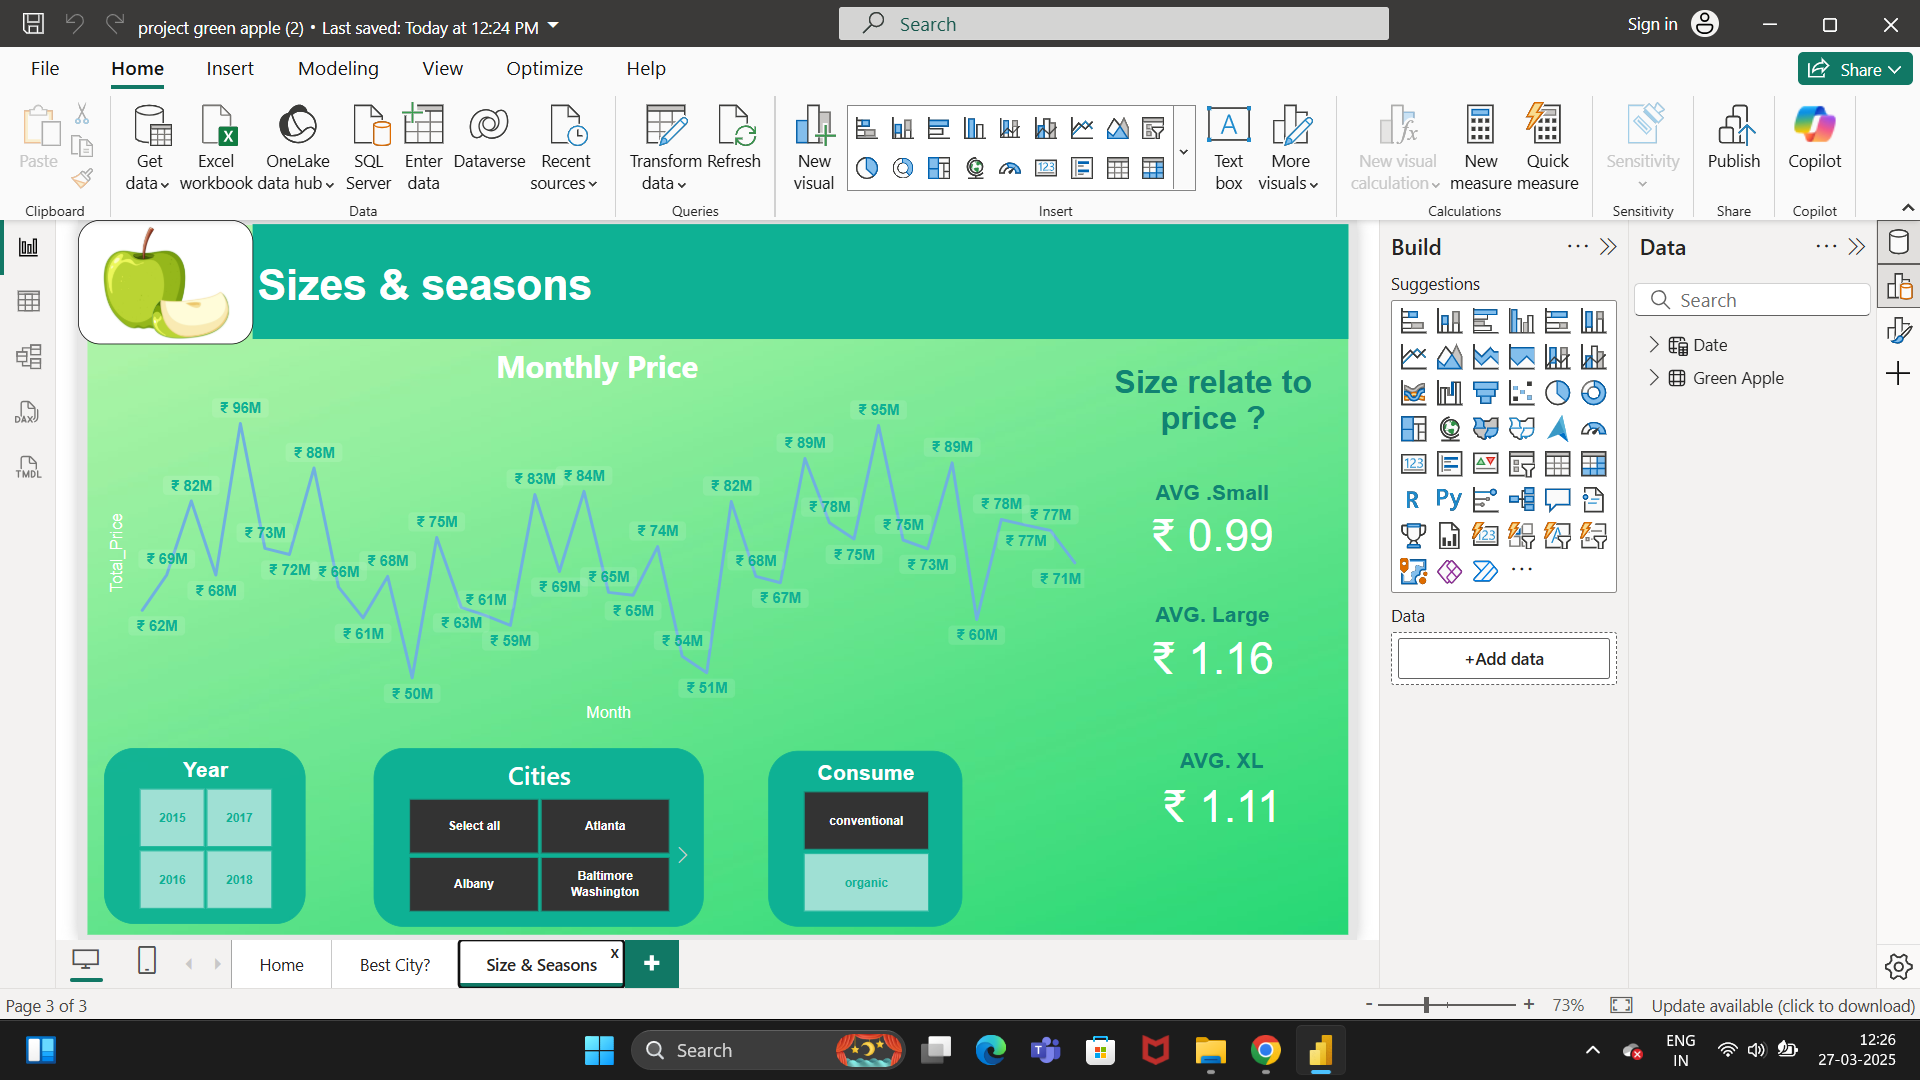

This screenshot's page, from the dashboard's own definition file:
{"tool":"powerbi","page":{"name":"Size & Seasons","canvas":[1280,720],"ordinal":2},"visuals":[{"type":"image","box":[0,0,1280,720],"z":0},{"type":"textbox","box":[175.3,4.7,1095.8,115.3],"z":1000},{"type":"card","title":"AVG .Small","fields":{"Values":["avocado.avg_price_small"]},"box":[1048.6,260,172.9,81.4],"z":2000},{"type":"slicer","title":"Consume","fields":{"Values":["avocado.type"]},"box":[690,531.4,194.3,175.7],"z":3000},{"type":"slicer","title":" Year","fields":{"Values":["Date.Calendar.Year"]},"box":[25.7,528.6,201.4,175.7],"z":4000},{"type":"card","title":"AVG. Large","fields":{"Values":["avocado.avg_price_large"]},"box":[1037.1,382.9,195.7,82.9],"z":5000},{"type":"card","title":"AVG. XL","fields":{"Values":["avocado.avg_price_xl"]},"box":[1066,528.3,156.6,88.7],"z":6000},{"type":"slicer","title":"Cities ","fields":{"Values":["avocado.Cities"]},"box":[295.7,528.6,330,178.6],"z":7000},{"type":"lineChart","title":" Monthly Price","fields":{"Category":["Date.Calendar.Year","Date.Calendar.Month"],"Y":["Green Apple.Total_Price"]},"box":[25.7,125.7,985.7,381.4],"z":8000},{"type":"textbox","box":[1024.3,138.6,221.4,94.3],"z":9000},{"type":"image","box":[0,0,175.5,124.5],"z":10000}]}

Visuals, with their boxes on the page's 1280x720 design canvas (x1, y1, x2, y2). These are canvas units, not pixel positions in the 1920x1080 screenshot, which may show the page scaled, cropped or inside an application window:
image: <box>0,0,1280,720</box>
textbox: <box>175,5,1271,120</box>
"AVG .Small" card: <box>1049,260,1222,341</box>
"Consume" slicer: <box>690,531,884,707</box>
" Year" slicer: <box>26,529,227,704</box>
"AVG. Large" card: <box>1037,383,1233,466</box>
"AVG. XL" card: <box>1066,528,1223,617</box>
"Cities " slicer: <box>296,529,626,707</box>
" Monthly Price" lineChart: <box>26,126,1011,507</box>
textbox: <box>1024,139,1246,233</box>
image: <box>0,0,176,124</box>
